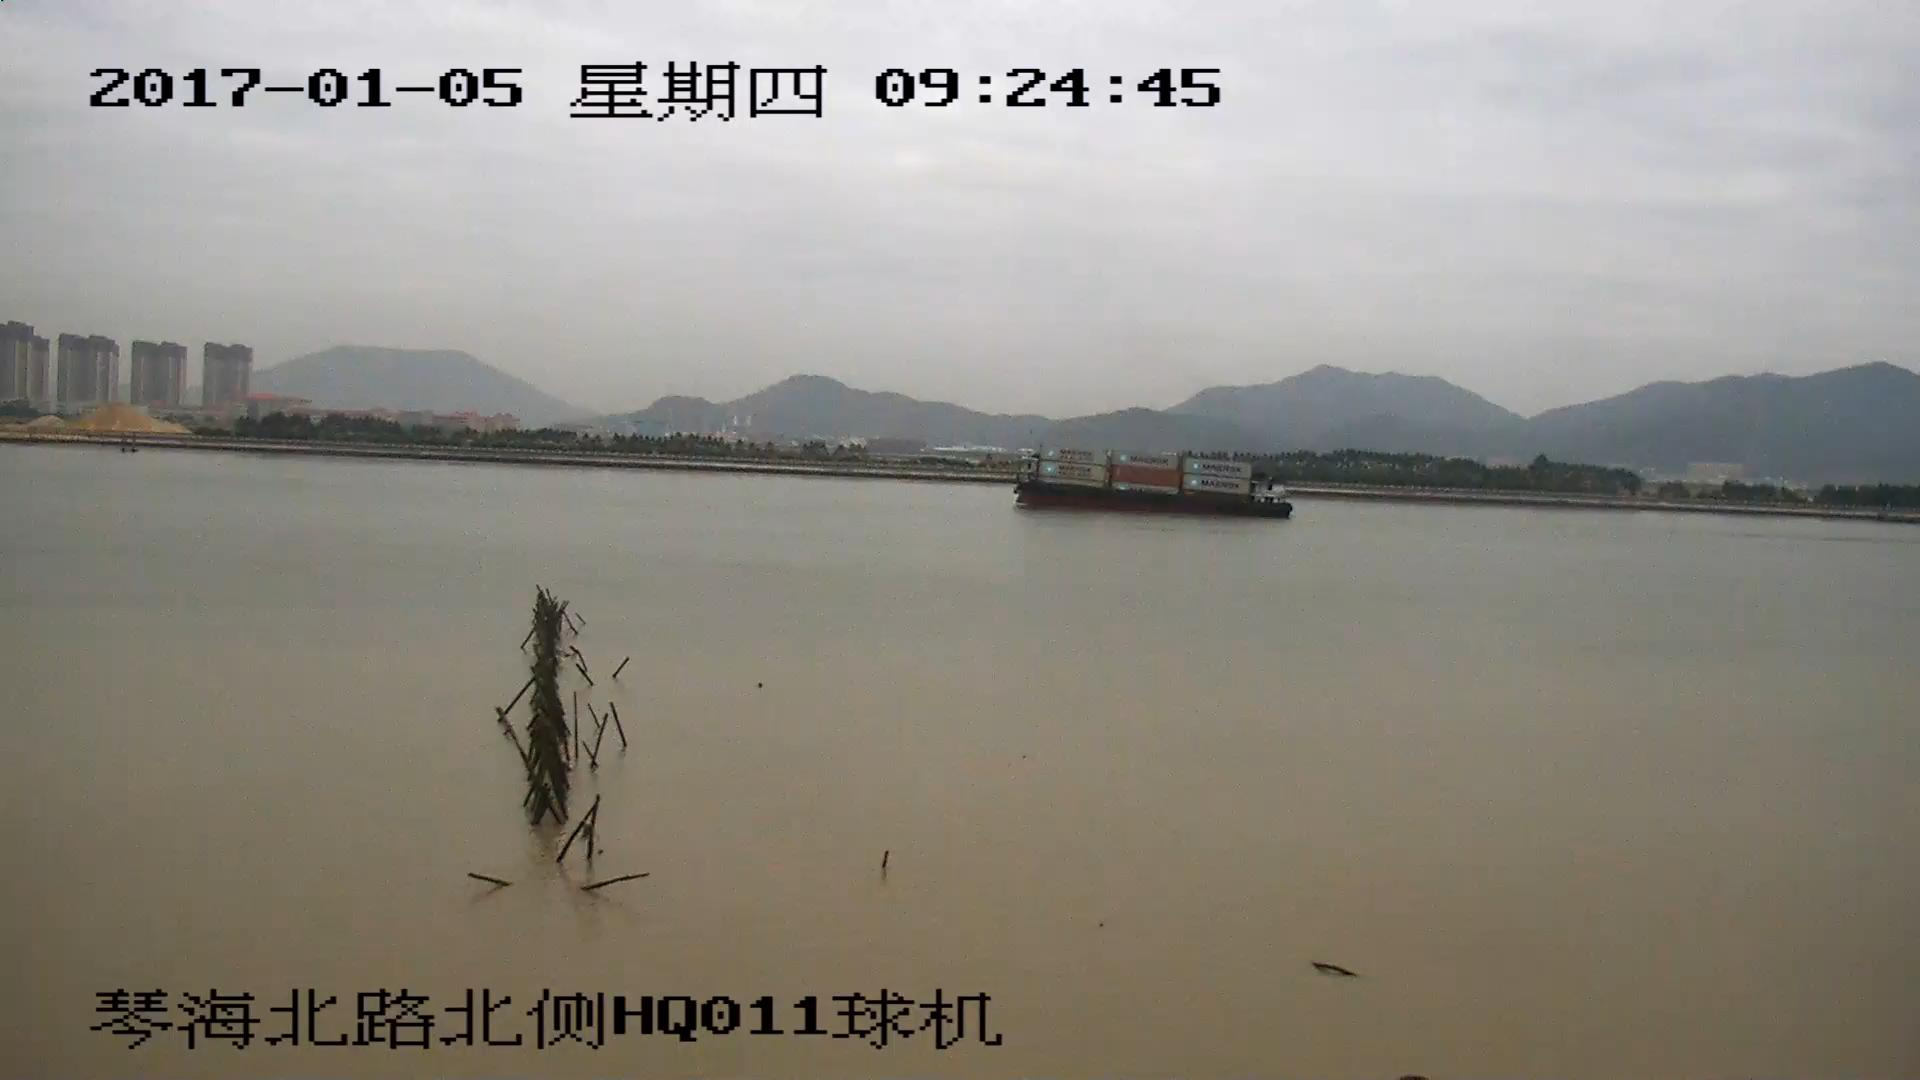container ship: (1012, 448, 1291, 515)
